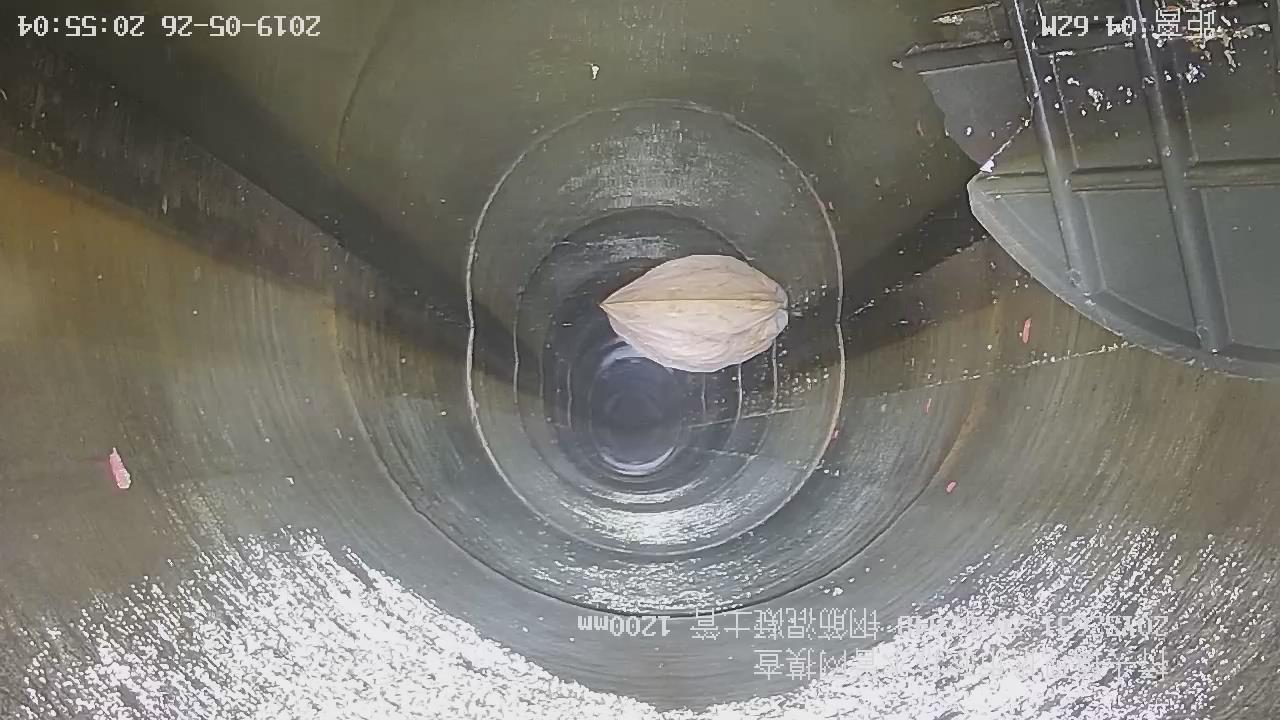ZAW: (601, 292, 788, 372)
